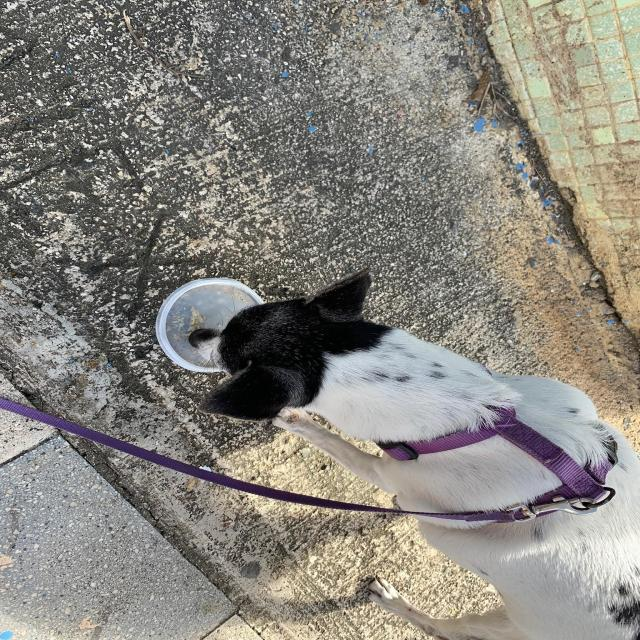litter: (154, 278, 263, 372)
